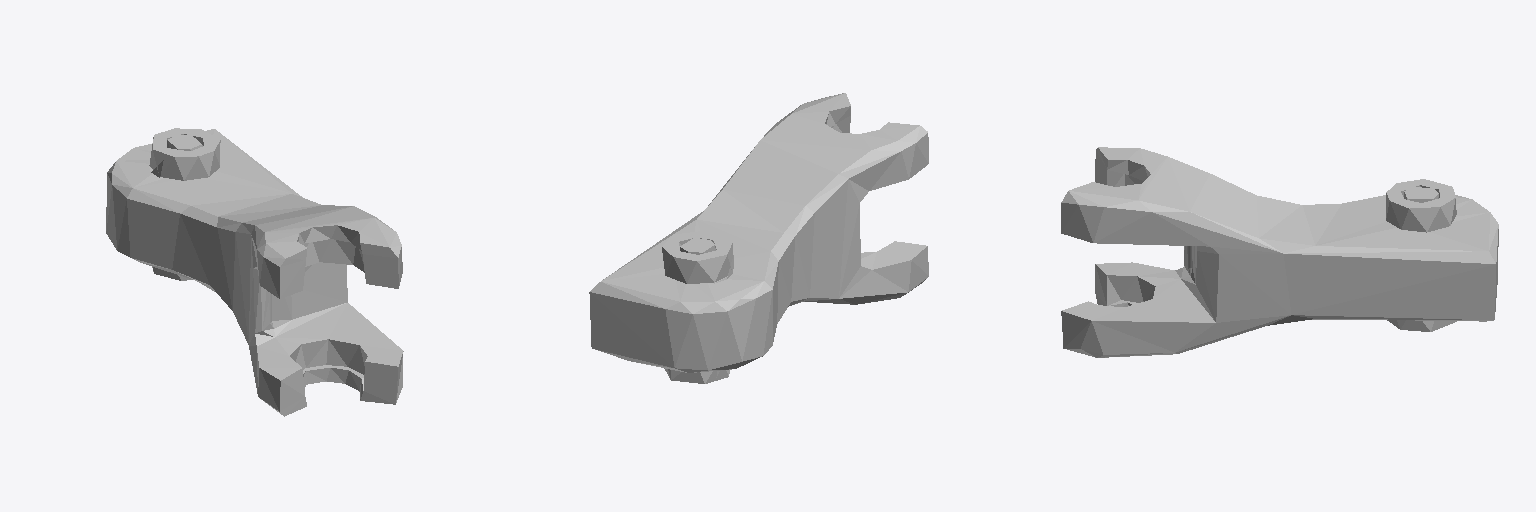
Rendered from right_visual_pinky_pp_mesh_mesh.obj.
3 renders of one model, left to right at view 1: azimuth 30°, elevation 25°; view 2: azimuth 150°, elevation 25°; view 3: azimuth 270°, elevation 25°, orthographic.
Bounding box in the file's own units: 0.0177 × 0.019 × 0.0476.